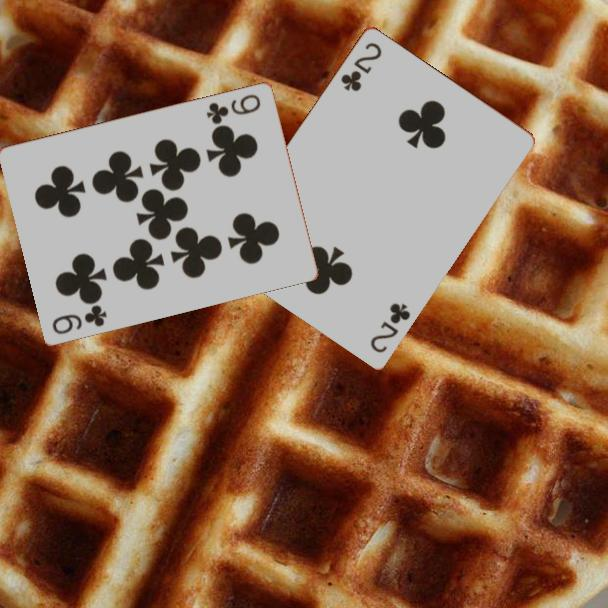c02: (337, 38, 385, 94), (367, 299, 413, 355)
c09: (203, 90, 264, 127), (49, 301, 110, 337)
